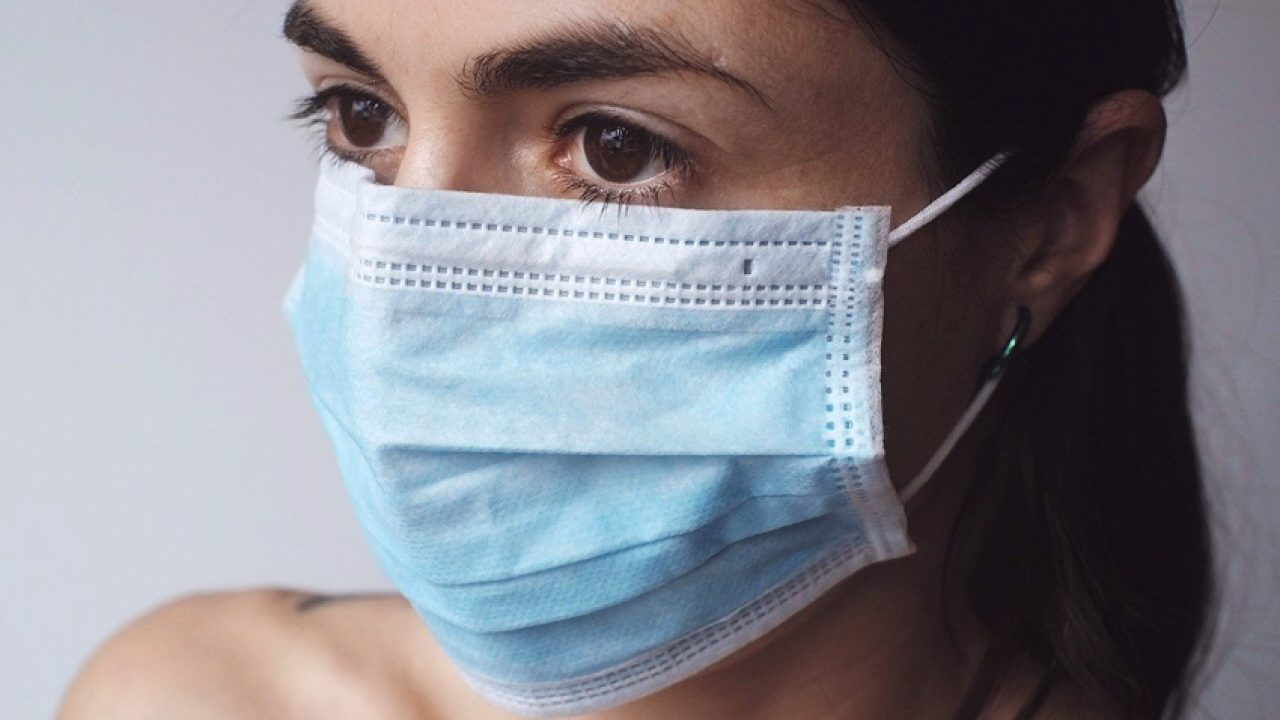with_mask: (257, 7, 1154, 716)
